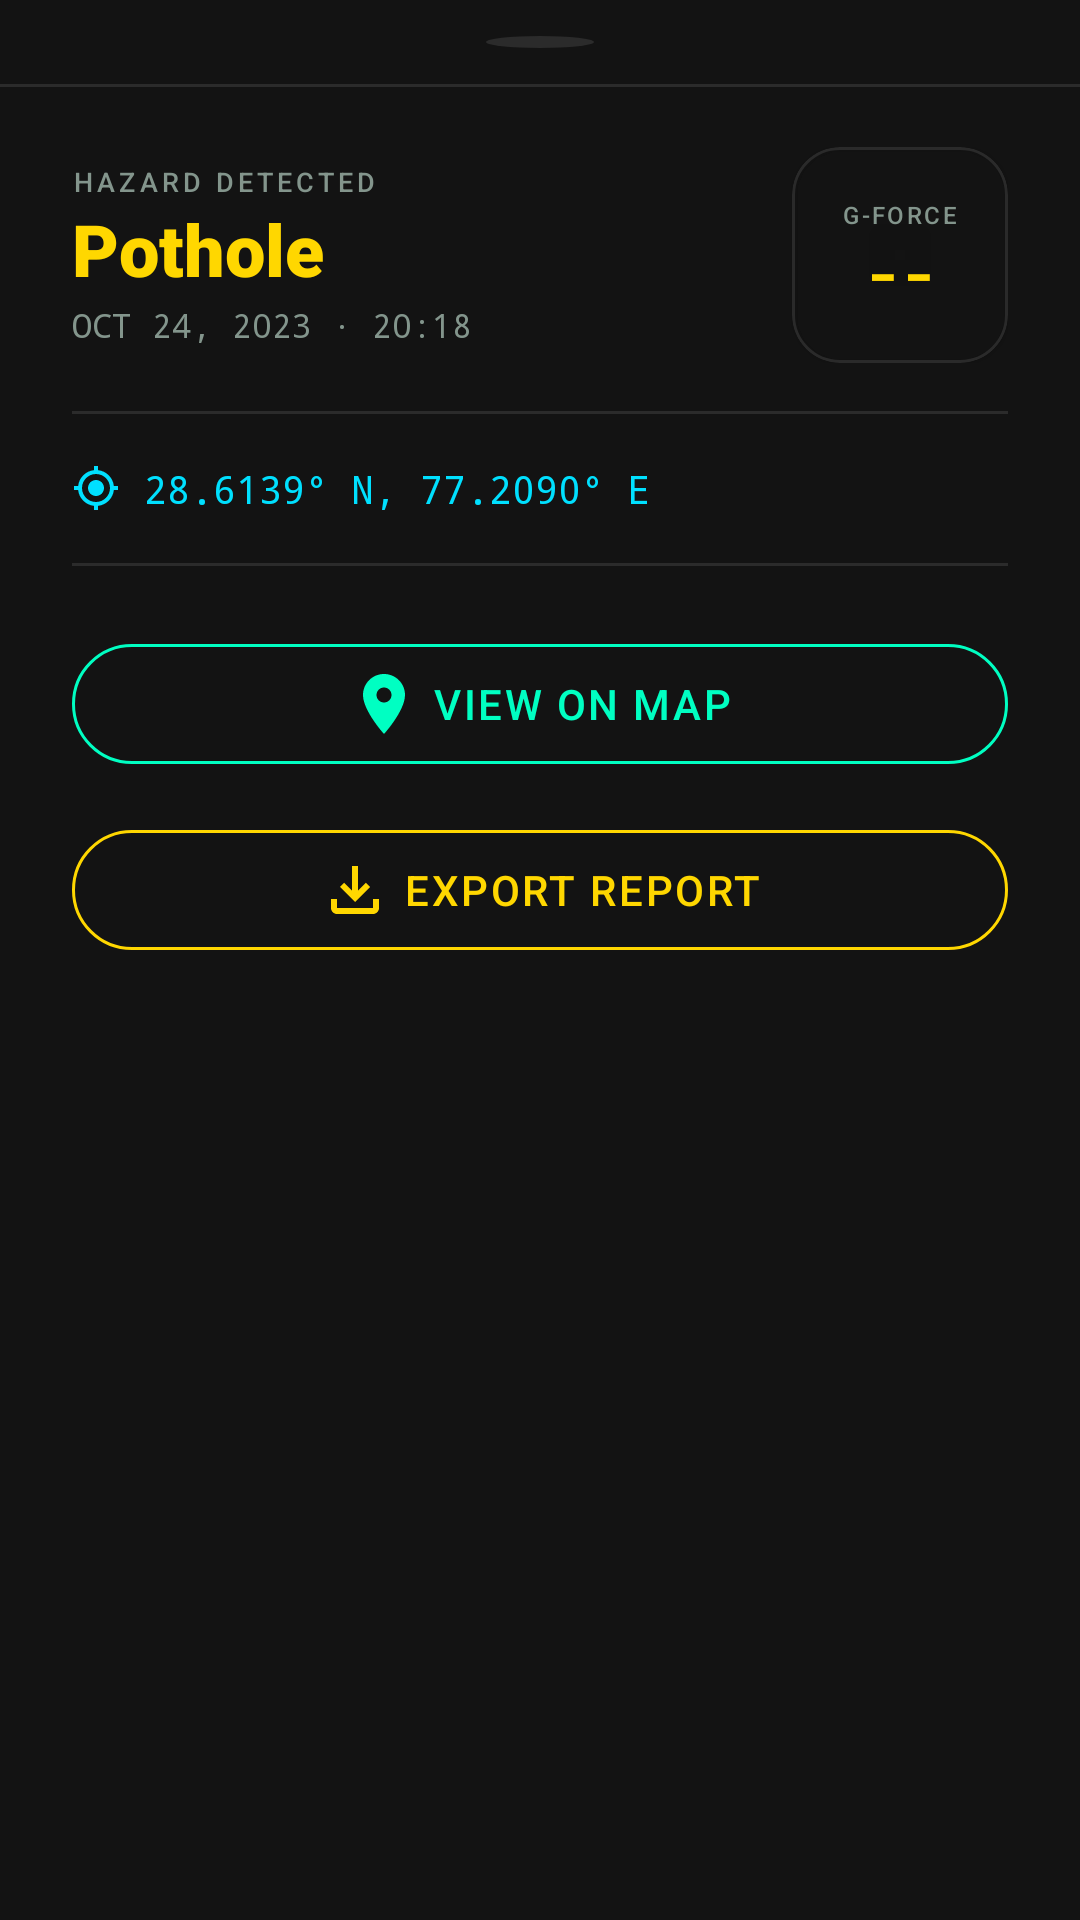

Named icons in this screenshot (1080px×1920px) and their bounding boxes, (x1, y1, x2, y2):
location: (74, 466, 118, 510)
